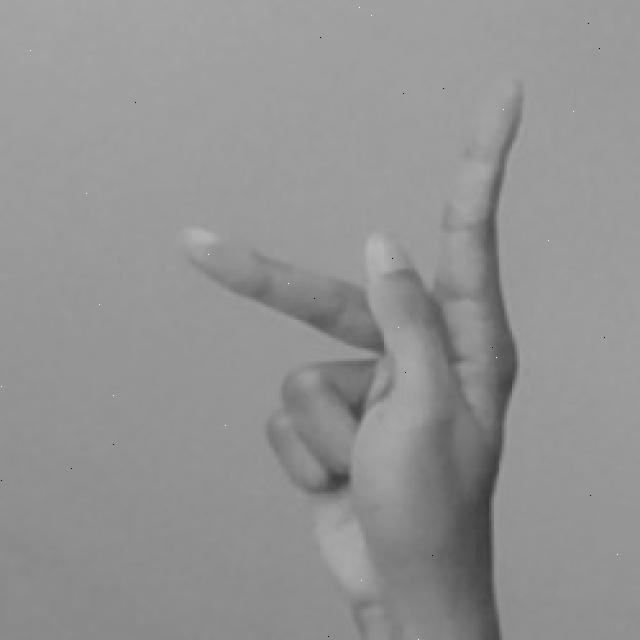K: (176, 71, 530, 640)
